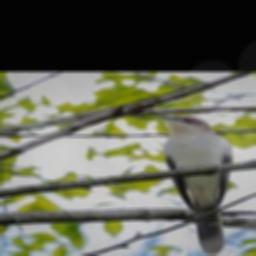Cuckoo: (152, 114, 231, 255)
